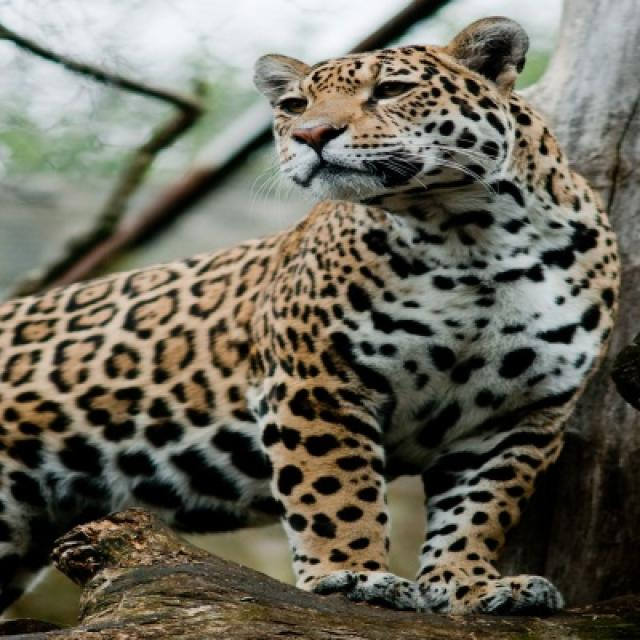Jaguar: (0, 16, 622, 622)
